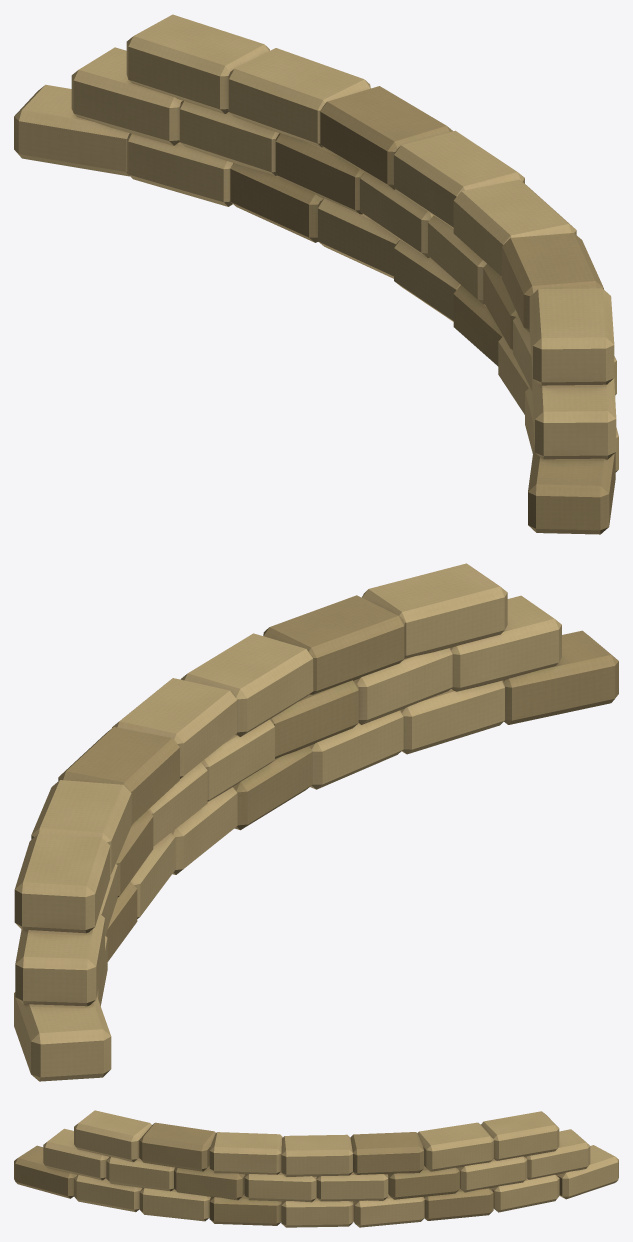
File: sandsackar_tex.glb
The picture shows the model from 3 angles, top to bottom: view 1: azimuth 30°, elevation 25°; view 2: azimuth 150°, elevation 25°; view 3: azimuth 270°, elevation 25°; orthographic projection. The views are drawn at different scales.
Visible parts, largest first — view 1: sandsackar; view 2: sandsackar; view 3: sandsackar.
Part boxes in pixels (<box>): sandsackar: <box>14,14,618,534</box>; sandsackar: <box>14,563,618,1081</box>; sandsackar: <box>14,1110,618,1227</box>.
Size of the model in its own units: 1.22 by 0.73 by 5.19.
Materials: 2 (2 with a texture image).
